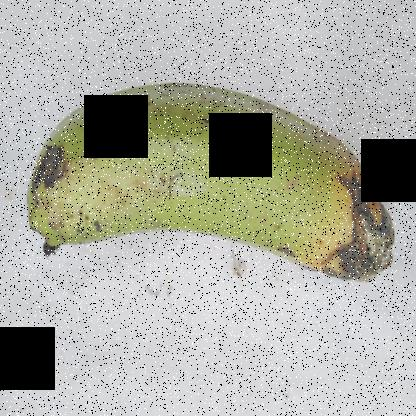unripe: (16, 56, 307, 287)
